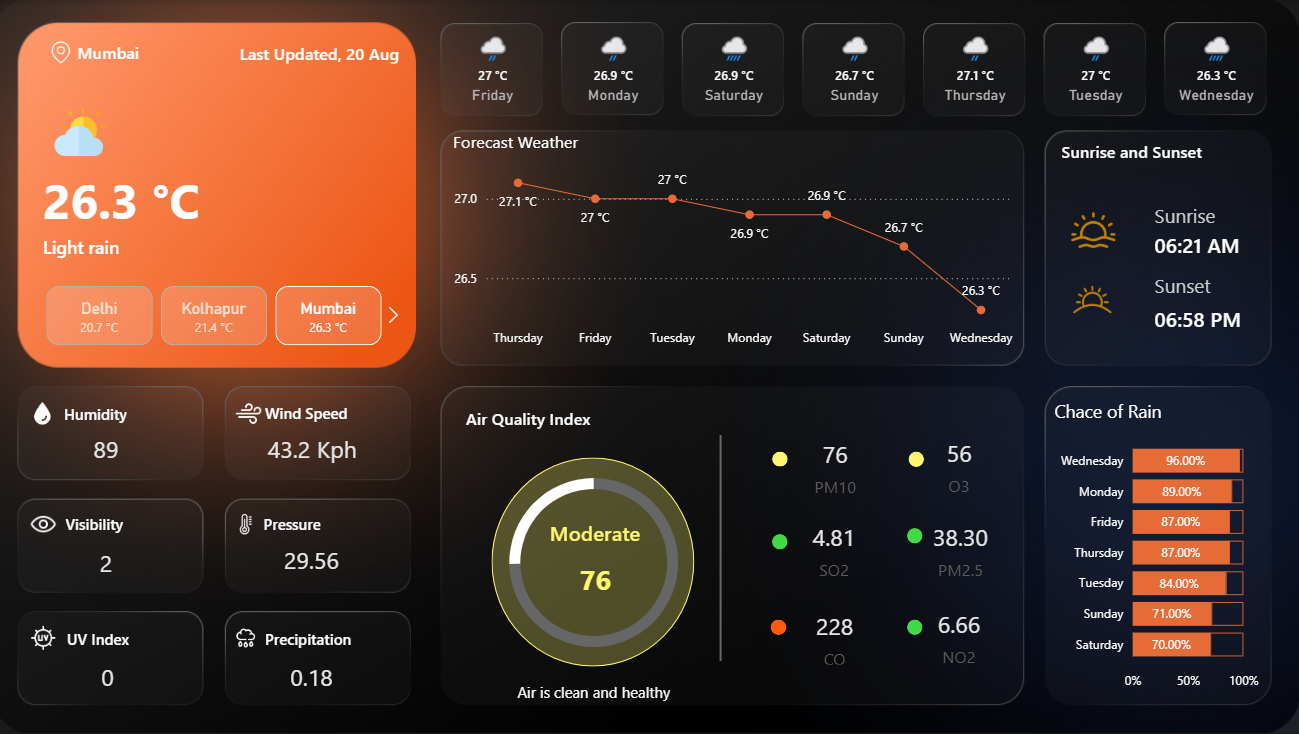

What the dashboard file says about the page in this screenshot:
{"tool":"powerbi","page":{"name":"Page 1","canvas":[1280,720],"ordinal":0},"visuals":[{"type":"shape","box":[489.1,448.2,198.4,204.4],"z":0},{"type":"donutChart","fields":{"Y":["_Measure.Left_value_PM10","Sum(Current_Data.current.air_quality.pm10)"]},"box":[472.4,442.1,231.7,216.5],"z":1000},{"type":"advancedSlicerVisual","fields":{"Values":["Location.location.name"]},"box":[28.3,275,380,68.3],"z":2000},{"type":"shape","box":[50.6,147.5,216.2,93.8],"z":3000},{"type":"shape","box":[50.6,224.4,216.2,33.8],"z":4000},{"type":"shape","box":[84.2,29.7,92.5,42.9],"z":5000},{"type":"shape","box":[197.3,39.1,201.8,23.6],"z":6000},{"type":"image","box":[50.8,35,32.5,31.9],"z":7000},{"type":"image","box":[228.6,385.7,43.6,37.1],"z":8000},{"type":"image","box":[28,492.6,44.4,38.8],"z":9000},{"type":"image","box":[31.4,606.4,38.6,35.7],"z":10000},{"type":"image","box":[228.6,497.9,38.6,30],"z":11000},{"type":"image","box":[1047.3,198,59.3,53.3],"z":12000},{"type":"image","box":[1044.7,262.7,63.3,60],"z":13000},{"type":"image","box":[228.6,607.9,38.6,32.9],"z":14000},{"type":"image","box":[32.9,387.1,34.3,33.6],"z":15000},{"type":"shape","box":[72.6,500.4,83.6,23.6],"z":16000},{"type":"shape","box":[72.9,612.9,83.6,23.6],"z":17000},{"type":"shape","box":[70,392.9,83.6,23.6],"z":18000},{"type":"shape","box":[267.4,392.1,83.6,23.6],"z":19000},{"type":"shape","box":[265.7,500.7,83.6,23.6],"z":20000},{"type":"shape","box":[267.1,917.9,83.6,23.6],"z":21000},{"type":"shape","box":[267.1,612.9,90,23.6],"z":22000},{"type":"card","fields":{"Values":["Sum(Current_Data.current.humidity)"]},"box":[55,414,114,53],"z":23000},{"type":"card","fields":{"Values":["Sum(Current_Data.current.precip_in)"]},"box":[255.8,636.6,114,53],"z":24000},{"type":"card","fields":{"Values":["Sum(Current_Data.current.uv)"]},"box":[55.8,636.6,114,53],"z":25000},{"type":"card","fields":{"Values":["Sum(Current_Data.current.vis_km)"]},"box":[54.5,525,113.9,52.8],"z":26000},{"type":"card","fields":{"Values":["Sum(Current_Data.current.pressure_in)"]},"box":[255,523,114,53],"z":27000},{"type":"card","fields":{"Values":["_Measure.Wind_Speed"]},"box":[251.4,414.3,124.3,52.9],"z":28000},{"type":"image","box":[56.1,97.4,61.1,64.4],"z":29000},{"type":"advancedSlicerVisual","fields":{"Values":["Forcast_Day_Data.Day_Name"]},"box":[429.8,21.2,828.5,86.6],"z":30000},{"type":"lineChart","title":"Forecast Weather","fields":{"Y":["Sum(Forcast_Day_Data.forecast.forecastday.day.avgtemp_c)"],"Category":["Forcast_Day_Data.Day_Name"]},"box":[446.7,128.3,563.3,220.8],"z":31000},{"type":"shape","box":[1046.9,134.9,184.6,24.8],"z":32000},{"type":"shape","box":[1137,223.3,106.7,31.7],"z":33000},{"type":"shape","box":[1137,292.8,106.7,36.1],"z":34000},{"type":"shape","box":[1137,196.7,106.7,27.8],"z":35000},{"type":"shape","box":[1137,266.1,106.7,26.7],"z":36000},{"type":"hundredPercentStackedBarChart","title":"Chace of Rain","fields":{"Y":["Sum(Forcast_Day_Data.forecast.forecastday.day.daily_chance_of_rain)","Current_Data.Left_value_Rain"],"Category":["Forcast_Day_Data.Day_Name"]},"box":[1034.4,390.8,209.4,293.1],"z":37000},{"type":"shape","box":[464,646,250,62],"z":38000},{"type":"card","fields":{"Values":["Sum(Current_Data.current.air_quality.pm10)"]},"box":[781.3,420.9,87.8,69.7],"z":39000},{"type":"card","fields":{"Values":["Sum(Current_Data.current.air_quality.so2)"]},"box":[781.1,506.7,85.6,62.2],"z":40000},{"type":"card","fields":{"Values":["Sum(Current_Data.current.air_quality.no2)"]},"box":[902.5,592.1,86.3,62.1],"z":41000},{"type":"card","fields":{"Values":["Sum(Current_Data.current.air_quality.pm2_5)"]},"box":[904.4,506,86.4,62],"z":42000},{"type":"card","fields":{"Values":["Sum(Current_Data.current.air_quality.o3)"]},"box":[902,421.3,86.7,67.3],"z":43000},{"type":"card","fields":{"Values":["Sum(Current_Data.current.air_quality.co)"]},"box":[781.1,593.3,86.7,62.2],"z":44000},{"type":"shape","box":[762.4,441.2,15.6,14.8],"z":45000},{"type":"shape","box":[762,606.4,15.6,15.2],"z":46000},{"type":"shape","box":[762.4,522,15.2,15.2],"z":47000},{"type":"shape","box":[894.8,517.2,15.2,15.2],"z":48000},{"type":"shape","box":[896.4,441.2,15.2,15.2],"z":49000},{"type":"shape","box":[894.8,606.4,15.2,15.2],"z":50000},{"type":"shape","box":[678.4,425.5,69.7,221.1],"z":51000},{"type":"card","fields":{"Values":["Sum(Current_Data.current.air_quality.pm10)"]},"box":[539.1,507.3,103,93.9],"z":52000},{"type":"shape","box":[464.4,396.2,184.6,24.8],"z":53000}]}

Visuals, with their boxes in screenshot pixels (x1, y1, x2, y2), scaled from the page's 1280x720 canvas onto the 1299x734 screenshot:
shape: <bbox>496, 457, 698, 665</bbox>
donutChart - _Measure.Left_value_PM10 x Sum(Current_Data.current.air_quality.pm10): <bbox>479, 451, 715, 671</bbox>
advancedSlicerVisual - Location.location.name: <bbox>29, 280, 414, 350</bbox>
shape: <bbox>51, 150, 271, 246</bbox>
shape: <bbox>51, 229, 271, 263</bbox>
shape: <bbox>85, 30, 179, 74</bbox>
shape: <bbox>200, 40, 405, 64</bbox>
image: <bbox>52, 36, 85, 68</bbox>
image: <bbox>232, 393, 276, 431</bbox>
image: <bbox>28, 502, 73, 542</bbox>
image: <bbox>32, 618, 71, 655</bbox>
image: <bbox>232, 508, 271, 538</bbox>
image: <bbox>1063, 202, 1123, 256</bbox>
image: <bbox>1060, 268, 1124, 329</bbox>
image: <bbox>232, 620, 271, 653</bbox>
image: <bbox>33, 395, 68, 429</bbox>
shape: <bbox>74, 510, 159, 534</bbox>
shape: <bbox>74, 625, 159, 649</bbox>
shape: <bbox>71, 401, 156, 425</bbox>
shape: <bbox>271, 400, 356, 424</bbox>
shape: <bbox>270, 510, 354, 534</bbox>
shape: <bbox>271, 625, 362, 649</bbox>
card - Sum(Current_Data.current.humidity): <bbox>56, 422, 172, 476</bbox>
card - Sum(Current_Data.current.precip_in): <bbox>260, 649, 375, 703</bbox>
card - Sum(Current_Data.current.uv): <bbox>57, 649, 172, 703</bbox>
card - Sum(Current_Data.current.vis_km): <bbox>55, 535, 171, 589</bbox>
card - Sum(Current_Data.current.pressure_in): <bbox>259, 533, 374, 587</bbox>
card - _Measure.Wind_Speed: <bbox>255, 422, 381, 476</bbox>
image: <bbox>57, 99, 119, 165</bbox>
advancedSlicerVisual - Forcast_Day_Data.Day_Name: <bbox>436, 22, 1277, 110</bbox>
"Forecast Weather" lineChart: <bbox>453, 131, 1025, 356</bbox>
shape: <bbox>1062, 138, 1250, 163</bbox>
shape: <bbox>1154, 228, 1262, 260</bbox>
shape: <bbox>1154, 298, 1262, 335</bbox>
shape: <bbox>1154, 201, 1262, 229</bbox>
shape: <bbox>1154, 271, 1262, 298</bbox>
"Chace of Rain" hundredPercentStackedBarChart: <bbox>1050, 398, 1262, 697</bbox>
shape: <bbox>471, 659, 725, 722</bbox>
card - Sum(Current_Data.current.air_quality.pm10): <bbox>793, 429, 882, 500</bbox>
card - Sum(Current_Data.current.air_quality.so2): <bbox>793, 517, 880, 580</bbox>
card - Sum(Current_Data.current.air_quality.no2): <bbox>916, 604, 1003, 667</bbox>
card - Sum(Current_Data.current.air_quality.pm2_5): <bbox>918, 516, 1006, 579</bbox>
card - Sum(Current_Data.current.air_quality.o3): <bbox>915, 429, 1003, 498</bbox>
card - Sum(Current_Data.current.air_quality.co): <bbox>793, 605, 881, 668</bbox>
shape: <bbox>774, 450, 790, 465</bbox>
shape: <bbox>773, 618, 789, 634</bbox>
shape: <bbox>774, 532, 789, 548</bbox>
shape: <bbox>908, 527, 924, 543</bbox>
shape: <bbox>910, 450, 925, 465</bbox>
shape: <bbox>908, 618, 924, 634</bbox>
shape: <bbox>688, 434, 759, 659</bbox>
card - Sum(Current_Data.current.air_quality.pm10): <bbox>547, 517, 652, 613</bbox>
shape: <bbox>471, 404, 659, 429</bbox>
